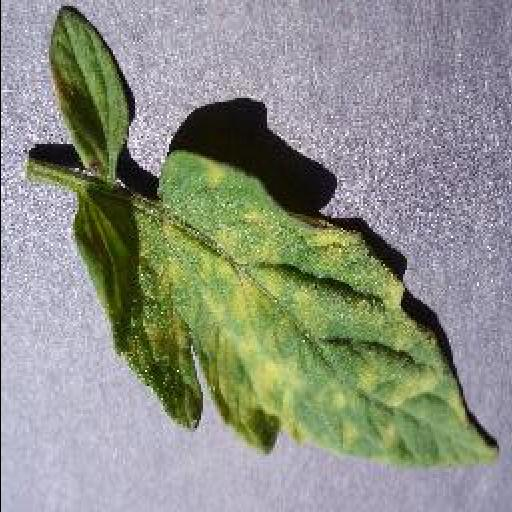disease_tomato: (70, 147, 496, 467)
